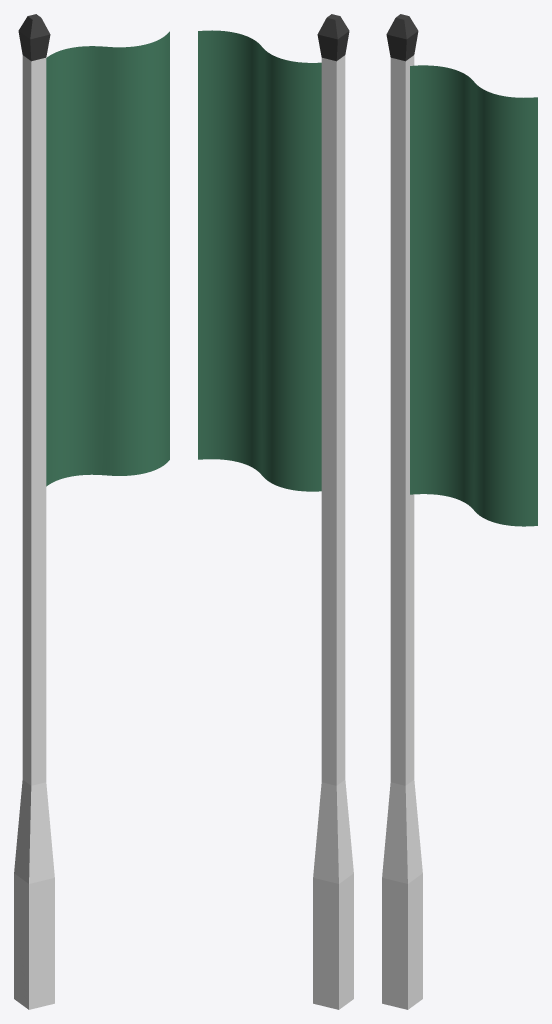
The model's file is flagGreen.glb.
3 renders of one model, left to right at view 1: azimuth 30°, elevation 25°; view 2: azimuth 150°, elevation 25°; view 3: azimuth 330°, elevation 25°, orthographic.
Visible parts, largest first — view 1: flagGreen(Clone), Group; view 2: flagGreen(Clone), Group; view 3: flagGreen(Clone), Group.
Part boxes in pixels (bbox=[...]): flagGreen(Clone): bbox=[46, 31, 169, 486]; Group: bbox=[14, 14, 54, 1009]; flagGreen(Clone): bbox=[198, 30, 321, 491]; Group: bbox=[313, 14, 353, 1009]; flagGreen(Clone): bbox=[410, 65, 537, 526]; Group: bbox=[382, 14, 422, 1009].
Bounding box in the file's own units: 0.1972 × 1.25 × 0.0352.
